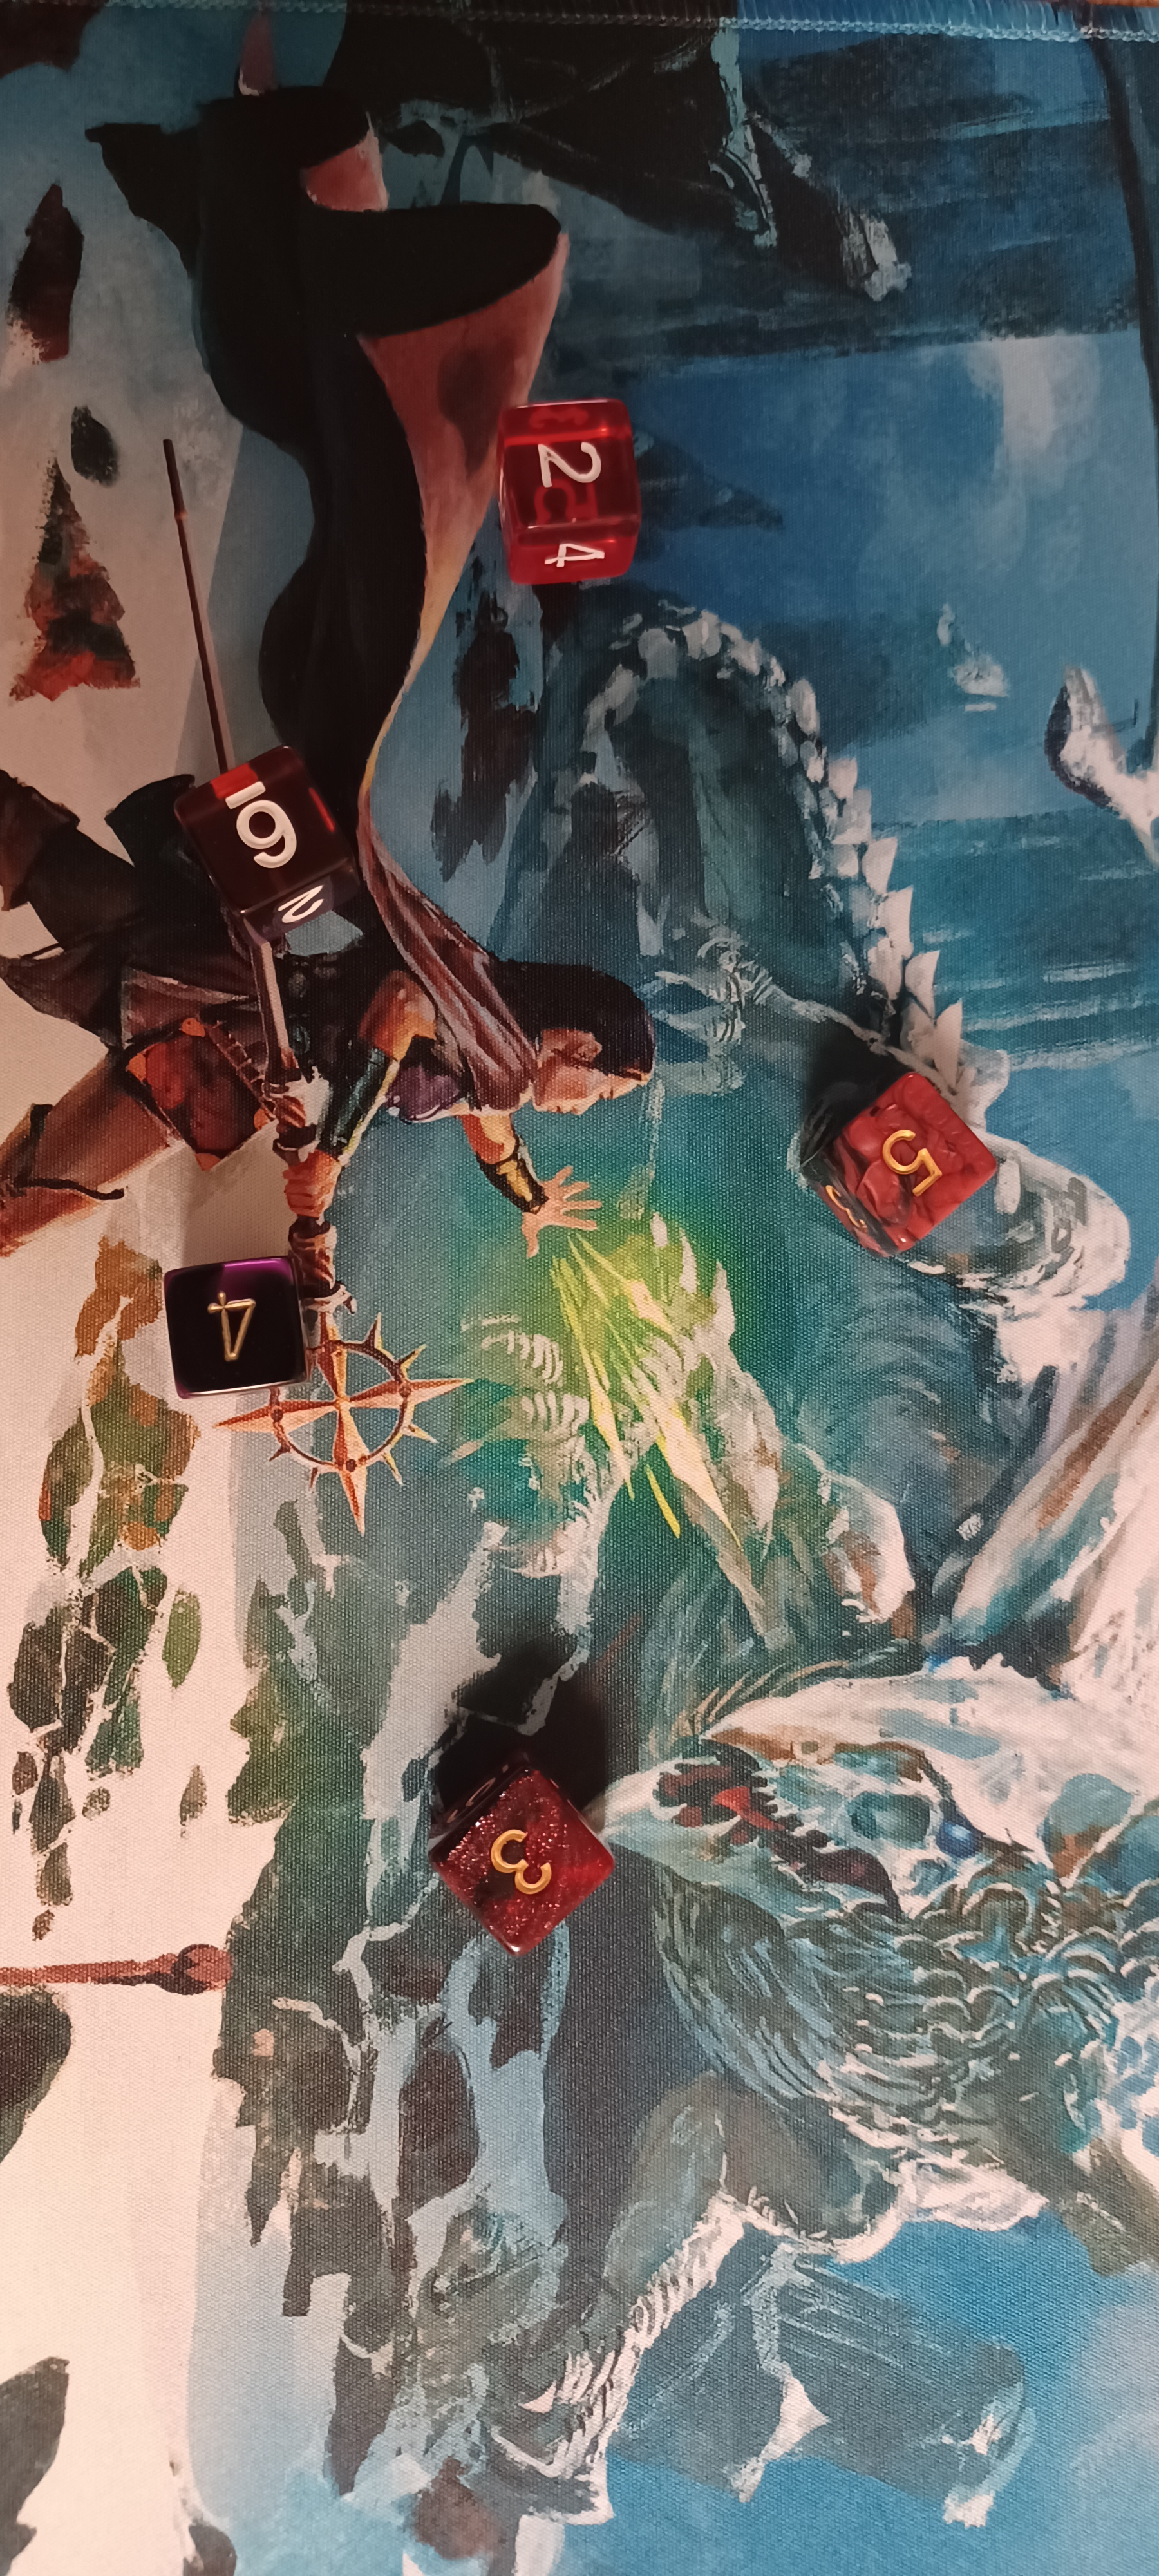five: (793, 1015, 1019, 1285)
four: (105, 1189, 373, 1456)
six: (149, 721, 392, 959)
three: (383, 1713, 637, 1981)
two: (455, 379, 675, 616)
